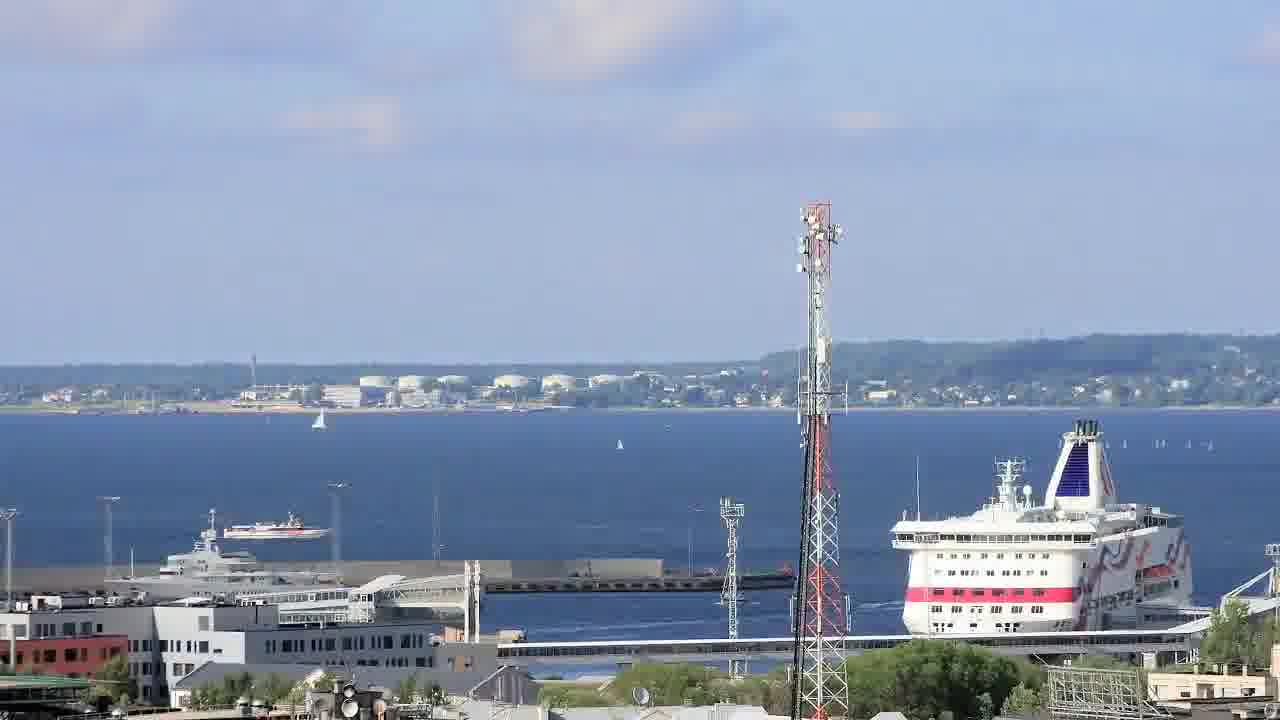type-1: (222, 497, 346, 557)
type-2: (304, 393, 349, 445)
type-3: (868, 415, 1225, 638), (84, 537, 359, 610)
